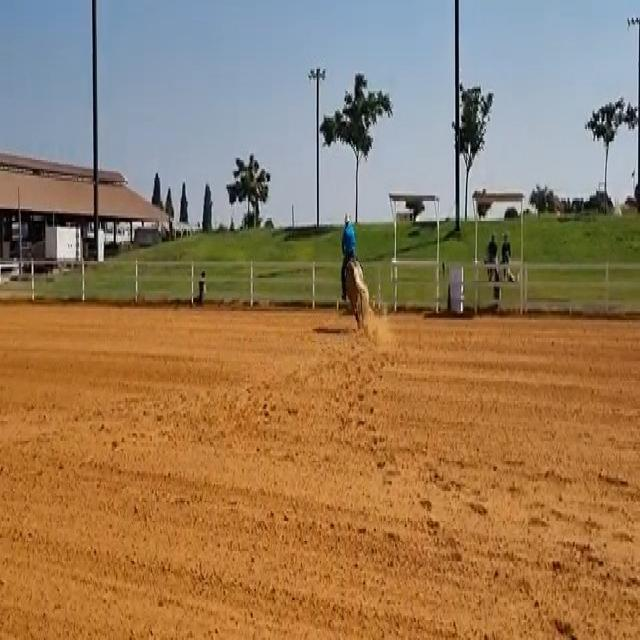horse: (340, 251, 372, 331)
